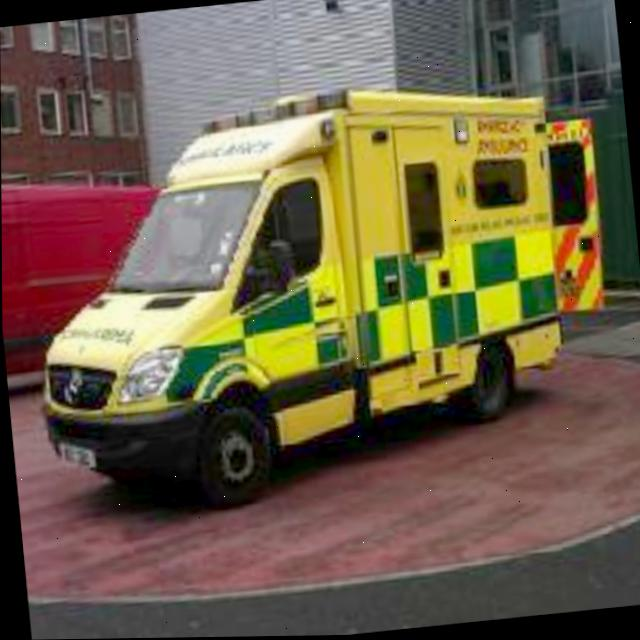emergency: (30, 58, 624, 526)
